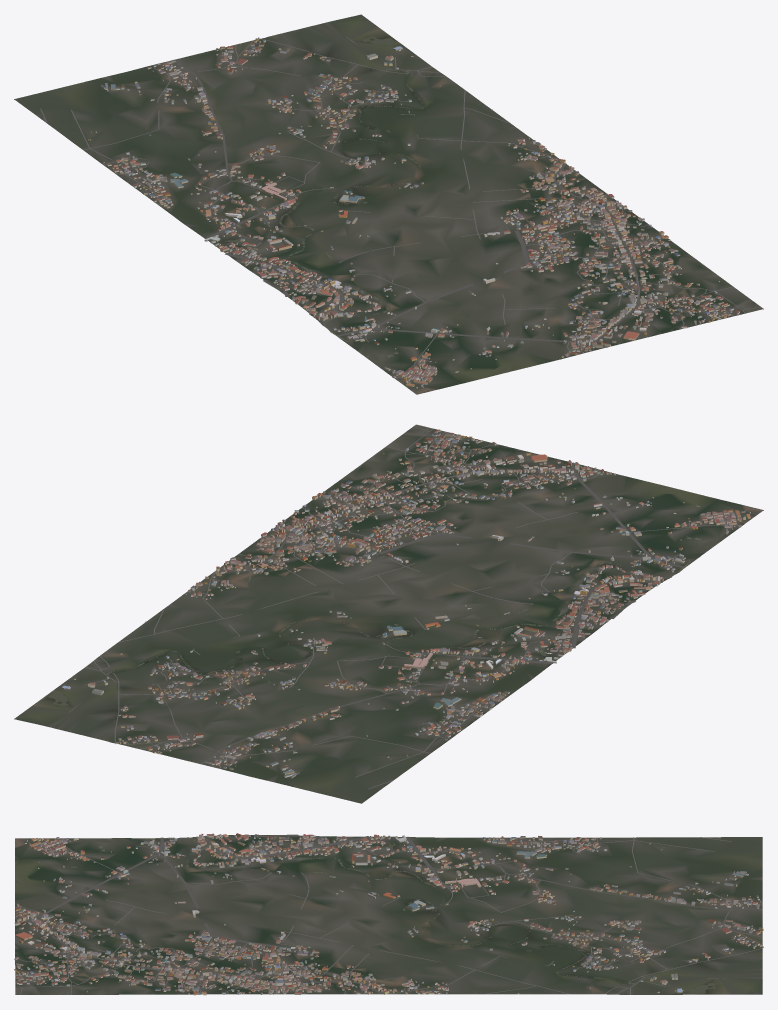
3 renders of one model, top to bottom at view 1: azimuth 30°, elevation 25°; view 2: azimuth 150°, elevation 25°; view 3: azimuth 270°, elevation 25°, orthographic. The views are drawn at different scales.
Parts seen in each view (by area): view 1: ground, buildings, roads, water; view 2: ground, buildings, roads, water; view 3: ground, buildings, roads, water.
Boxes of the visible parts, <box> form: ground: <box>14,14,763,394</box>; buildings: <box>87,37,739,388</box>; roads: <box>40,37,760,381</box>; water: <box>224,36,449,357</box>; ground: <box>14,424,763,803</box>; buildings: <box>61,429,750,778</box>; roads: <box>68,426,742,789</box>; water: <box>48,516,701,733</box>; ground: <box>15,835,762,994</box>; buildings: <box>14,833,763,995</box>; roads: <box>14,834,762,994</box>; water: <box>71,837,745,993</box>.
Size of the model in its own units: 1414 by 29.36 by 2813.
